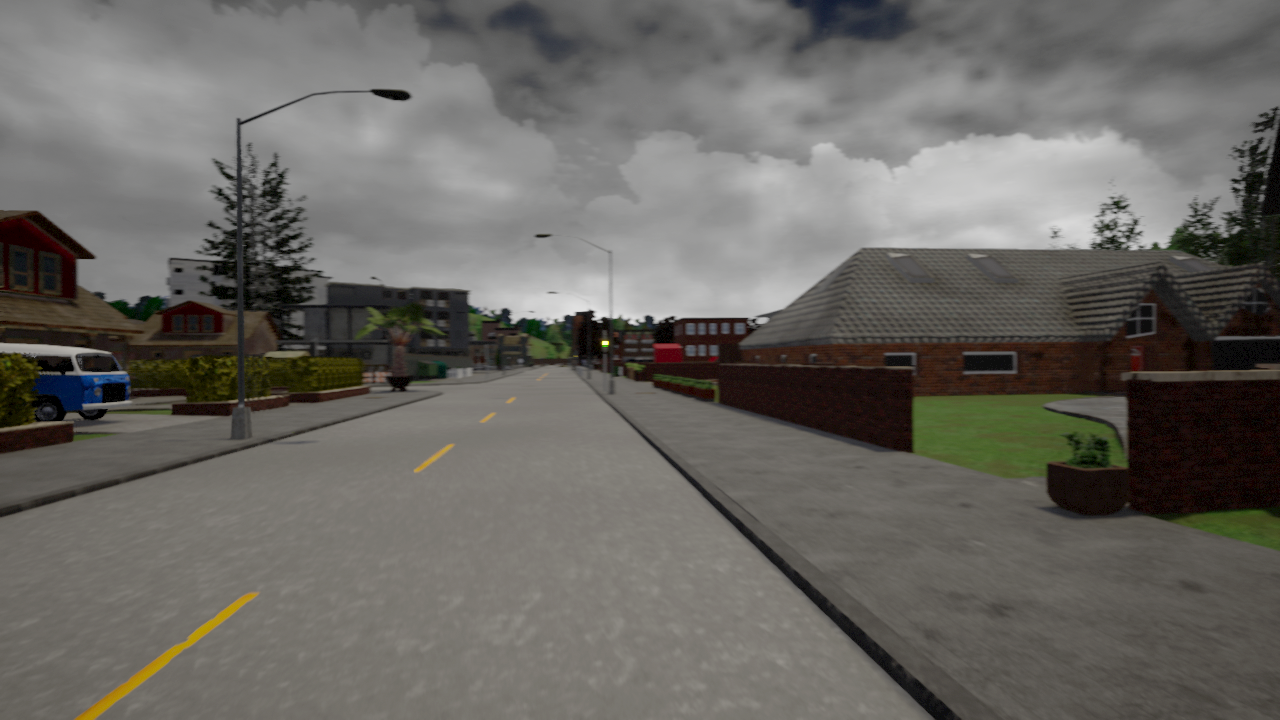yellow: (600, 335, 608, 352)
